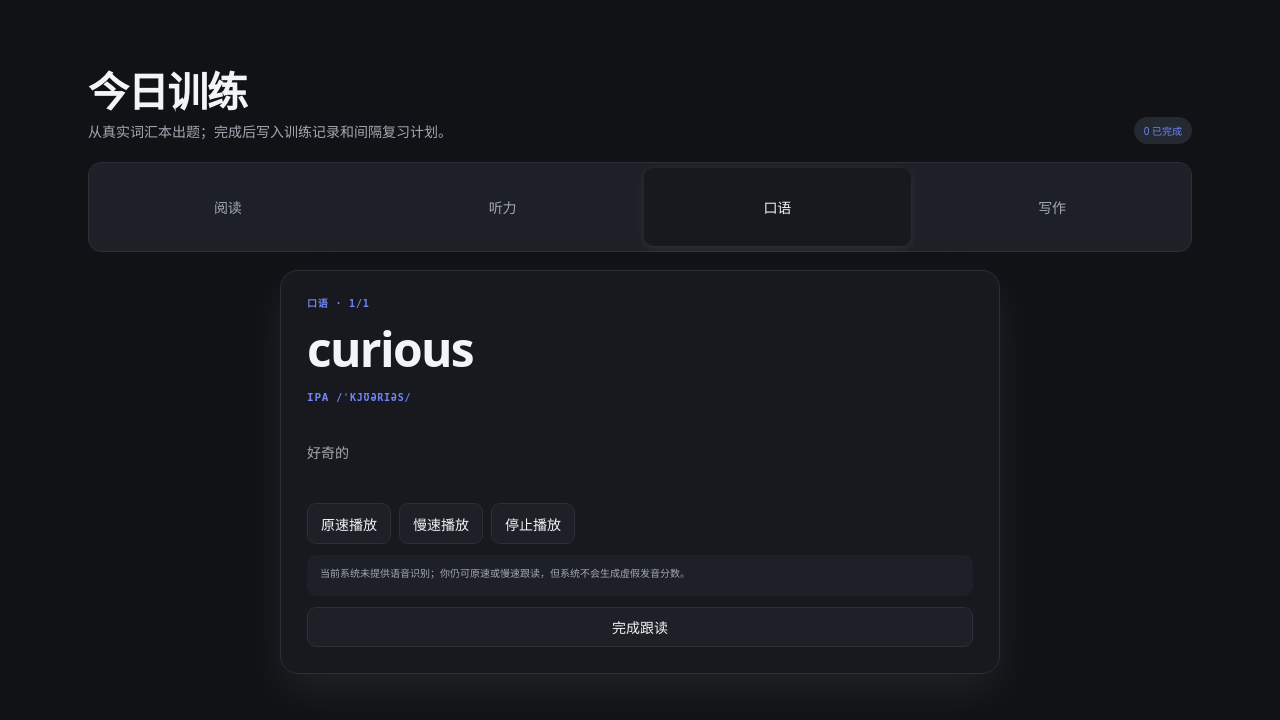
Scenario: language practice › speaking practice degrades honestly when speech recognition is unavailable
The image size is (1280, 720).
Expected: the text "当前系统未提供语音识别；你仍可原速或慢速跟读，但系统不会生成虚假发音分数。" is shown, [307,555,973,596]
Click the button "慢速播放".
click(441, 524)  # box [399,503,483,544]
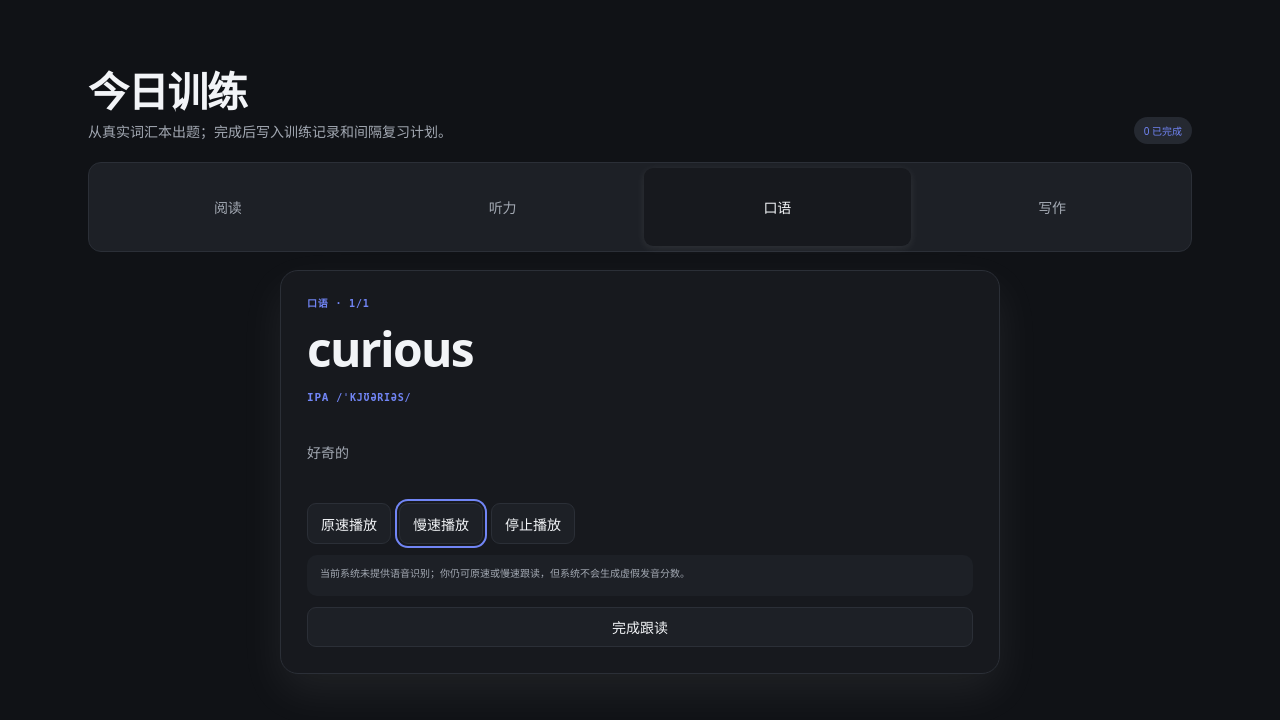
Click the button "完成跟读".
click(640, 627)  # box [307,607,973,647]
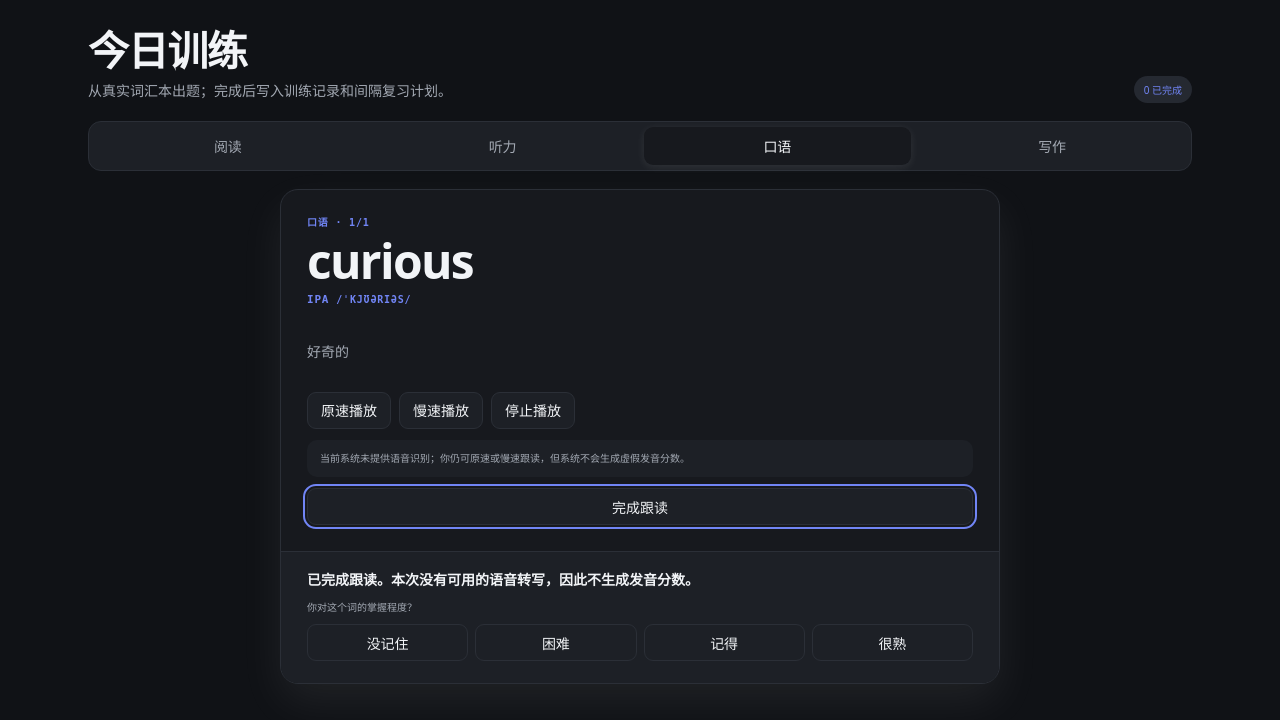
Expected: the button "记得" is shown, [644,624,805,661]
